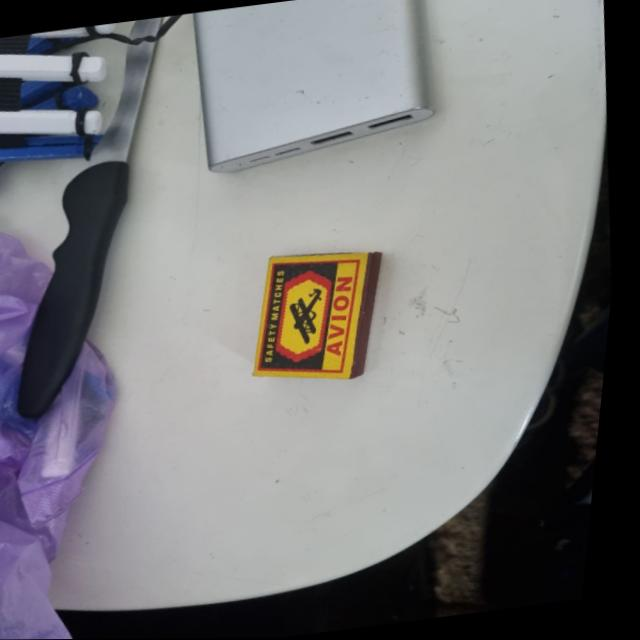match: (239, 238, 411, 391)
